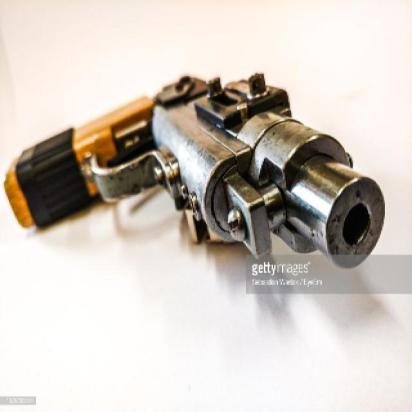Gun: (2, 77, 388, 267)
